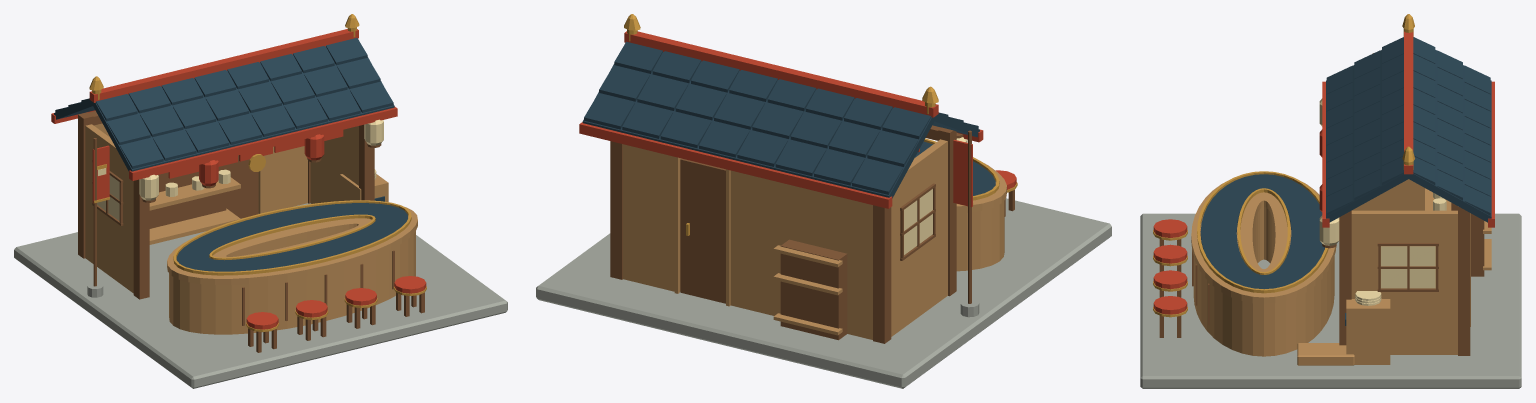
File: conveyor-lv3.glb
The picture shows the model from 3 angles, left to right: view 1: azimuth 30°, elevation 25°; view 2: azimuth 150°, elevation 25°; view 3: azimuth 270°, elevation 25°; orthographic projection. The views are drawn at different scales.
Parts seen in each view (by area): view 1: Conveyor_L3; view 2: Conveyor_L3; view 3: Conveyor_L3.
Part boxes in pixels (x1,y1,x2,y2): Conveyor_L3: (14, 14, 507, 388); Conveyor_L3: (536, 14, 1111, 388); Conveyor_L3: (1140, 14, 1521, 388).
Bounding box in the file's own units: 5.4 × 3.48 × 5.3.
